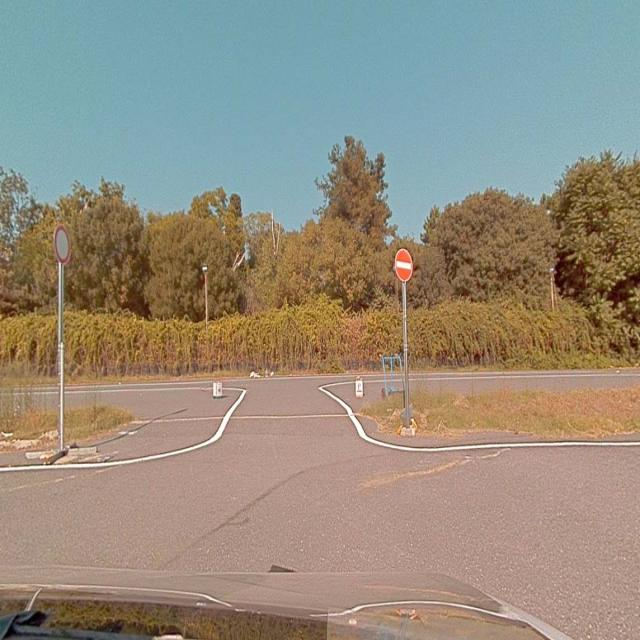girisyok: (394, 247, 412, 283)
